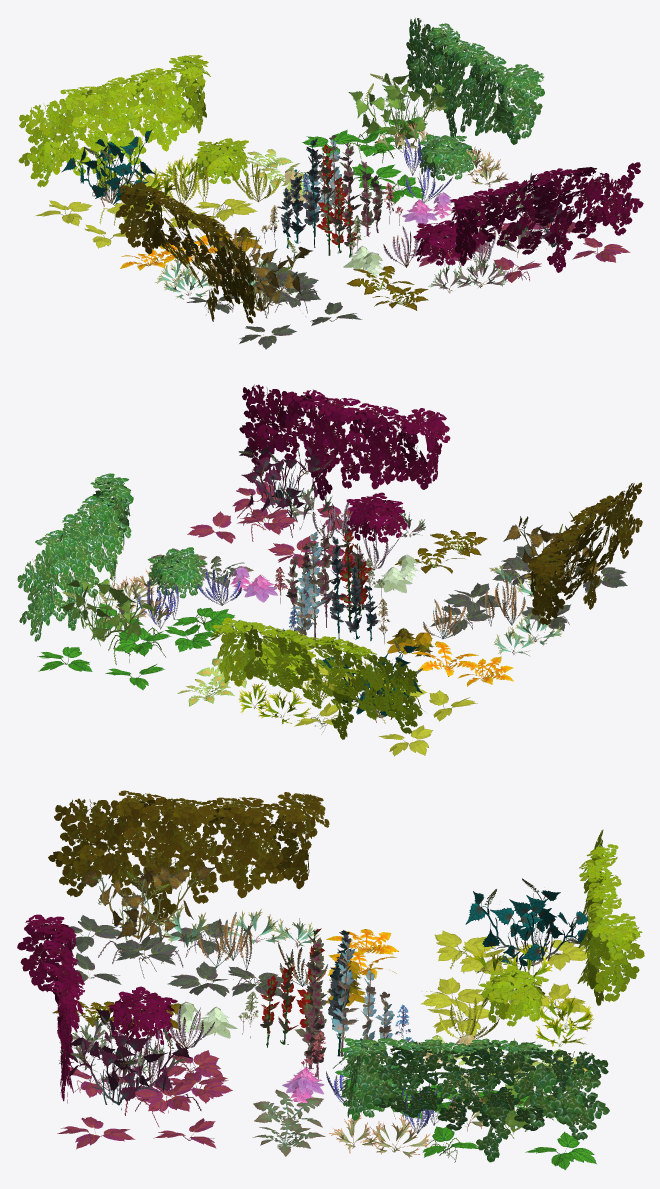
File: plantasColores.fbx
3 views of the same model, one above another, from view 1: azimuth 30°, elevation 25°; view 2: azimuth 150°, elevation 25°; view 3: azimuth 270°, elevation 25° (orthographic). The views are drawn at different scales.
Visible parts, largest first — view 1: Object_52, Object_55, Object_141, Object_53, Object_143, Object_57, Object_31, Object_142, Object_26, Object_50, Object_59, Object_54 (+51 smaller); view 2: Object_53, Object_141, Object_57, Object_52, Object_144, Object_55, Object_32, Object_54, Object_50, Object_59, Object_33, Object_60 (+52 smaller); view 3: Object_51, Object_56, Object_50, Object_54, Object_143, Object_144, Object_142, Object_17, Object_58, Object_32, Object_26, Object_31 (+60 smaller).
Part boxes in pixels (<box>): Object_52: <box>120,73,194,165</box>; Object_55: <box>65,83,138,175</box>; Object_141: <box>348,73,451,139</box>; Object_53: <box>474,184,542,254</box>; Object_143: <box>61,129,155,206</box>; Object_57: <box>523,167,597,238</box>; Object_31: <box>115,186,167,254</box>; Object_142: <box>213,238,312,314</box>; Object_26: <box>493,73,544,144</box>; Object_50: <box>460,56,501,135</box>; Object_59: <box>19,99,72,162</box>; Object_54: <box>428,33,470,112</box>; Object_53: <box>339,411,408,489</box>; Object_141: <box>59,559,158,645</box>; Object_57: <box>283,395,353,472</box>; Object_52: <box>255,630,322,708</box>; Object_144: <box>238,443,332,511</box>; Object_55: <box>309,641,377,719</box>; Object_32: <box>217,620,267,686</box>; Object_54: <box>45,521,98,621</box>; Object_50: <box>79,501,131,597</box>; Object_59: <box>360,654,417,717</box>; Object_33: <box>398,416,442,489</box>; Object_60: <box>242,384,296,448</box>; Object_51: <box>188,805,283,903</box>; Object_56: <box>112,798,207,895</box>; Object_50: <box>375,1040,469,1130</box>; Object_54: <box>450,1040,546,1130</box>; Object_143: <box>465,878,587,966</box>; Object_144: <box>70,1008,191,1110</box>; Object_142: <box>78,860,215,942</box>; Object_17: <box>529,1050,608,1123</box>; Object_58: <box>54,798,127,871</box>; Object_32: <box>587,917,644,1005</box>; Object_26: <box>344,1038,395,1120</box>; Object_31: <box>267,808,317,889</box>.
Bounding box in the file's own units: 1652 × 462 × 1650.
Materials: 16 (16 with a texture image).
